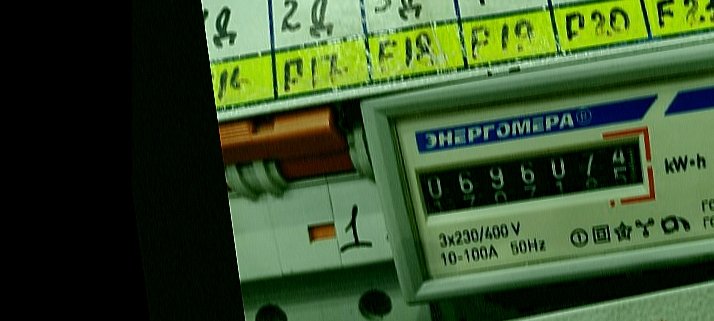0: (426, 172, 448, 199), (551, 152, 570, 180)
4: (612, 143, 629, 165)
5: (615, 164, 632, 185)
6: (457, 166, 478, 194), (520, 156, 540, 185)
7: (582, 149, 601, 176)
9: (489, 162, 509, 190)
screen: (410, 123, 664, 232)
